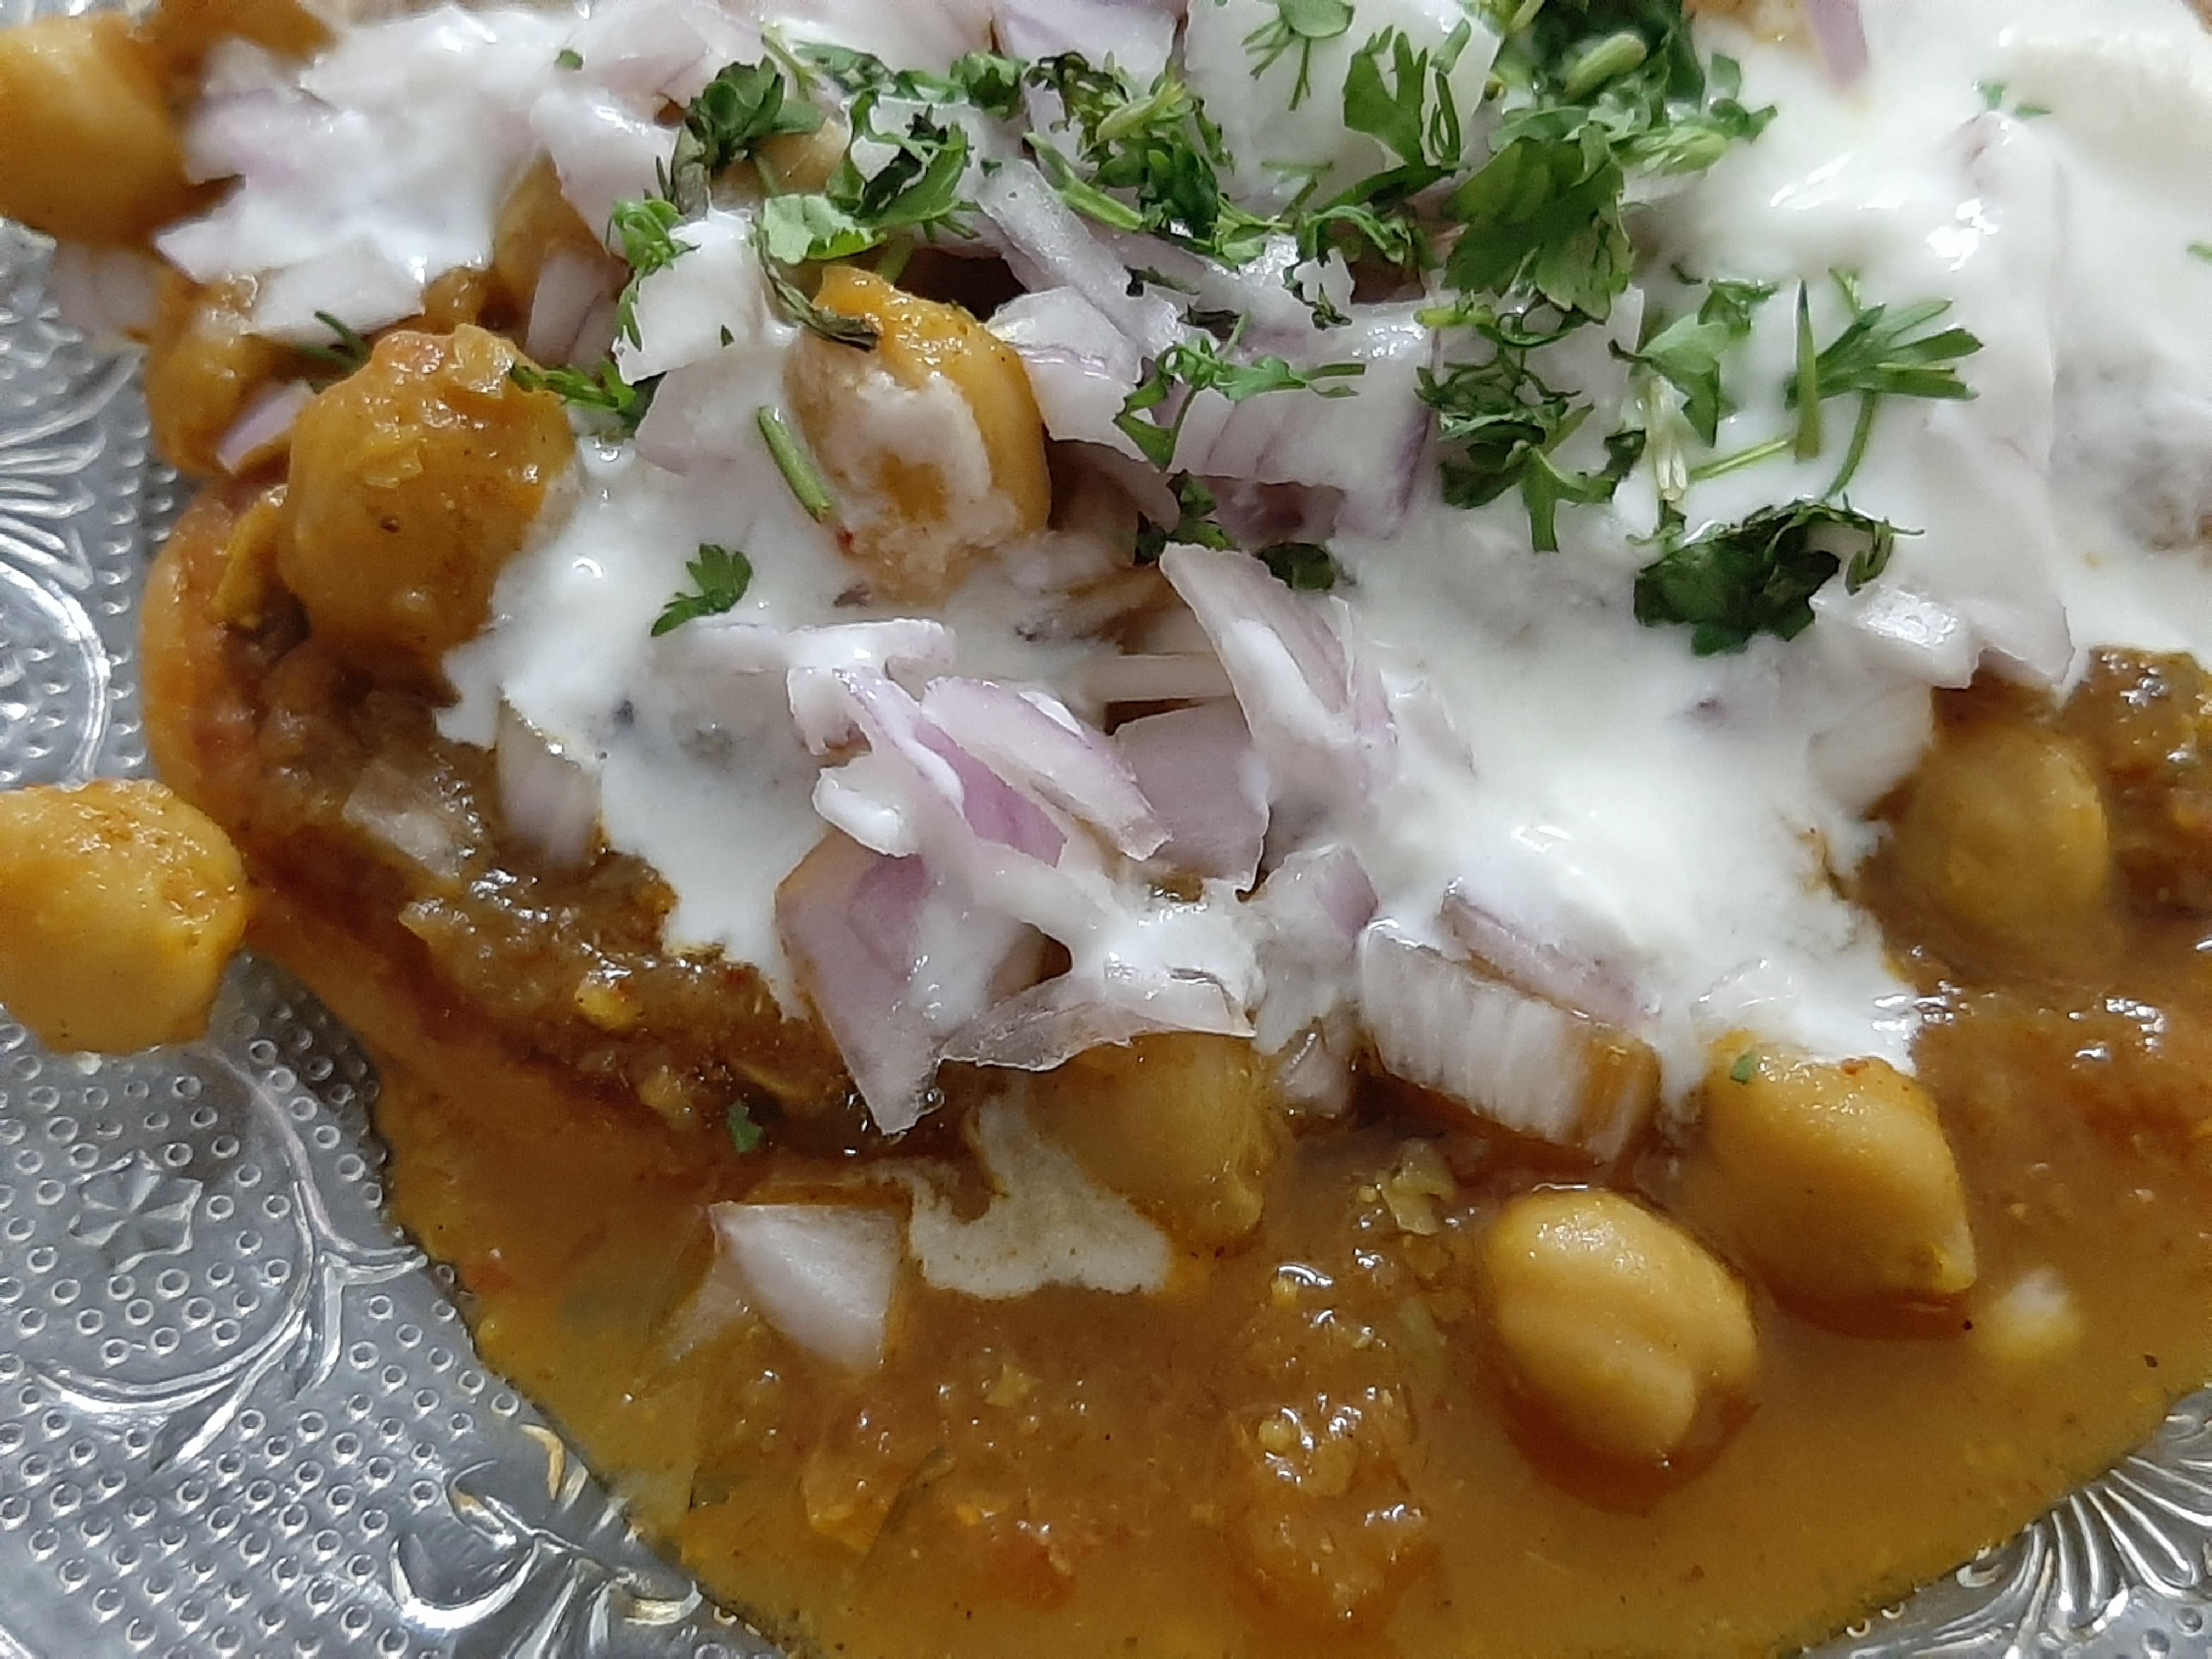food: (2, 2, 2212, 1659)
